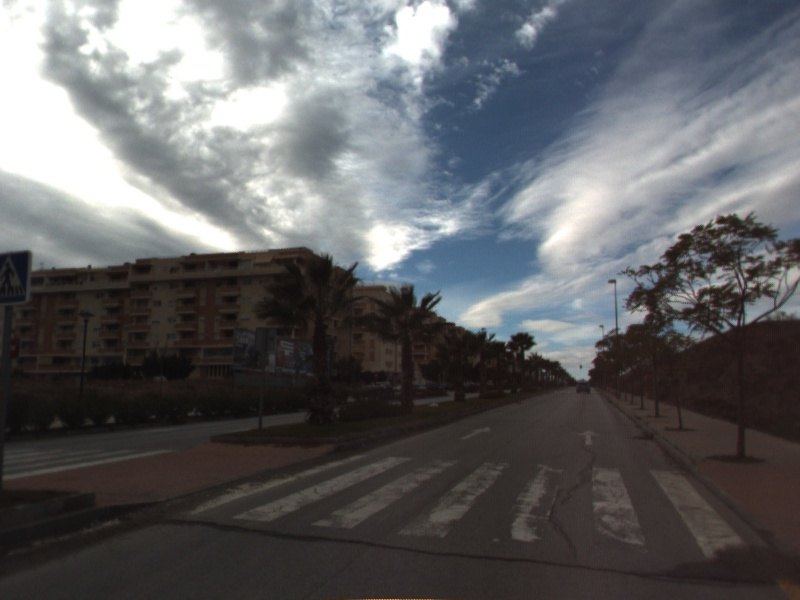STRAIGHT: (458, 424, 493, 441), (576, 428, 602, 447)
